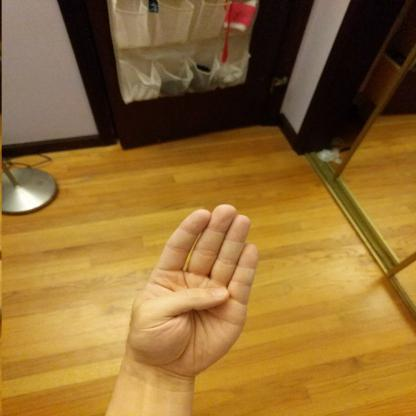B: (115, 201, 265, 386)
